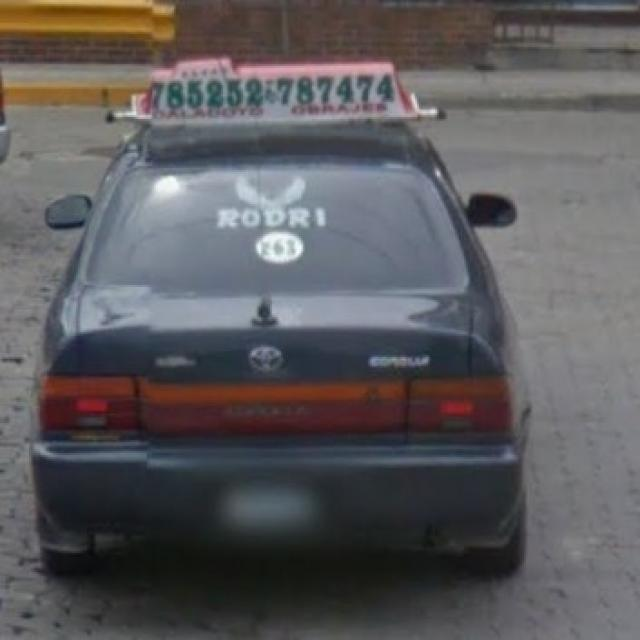Car: (52, 87, 526, 578)
